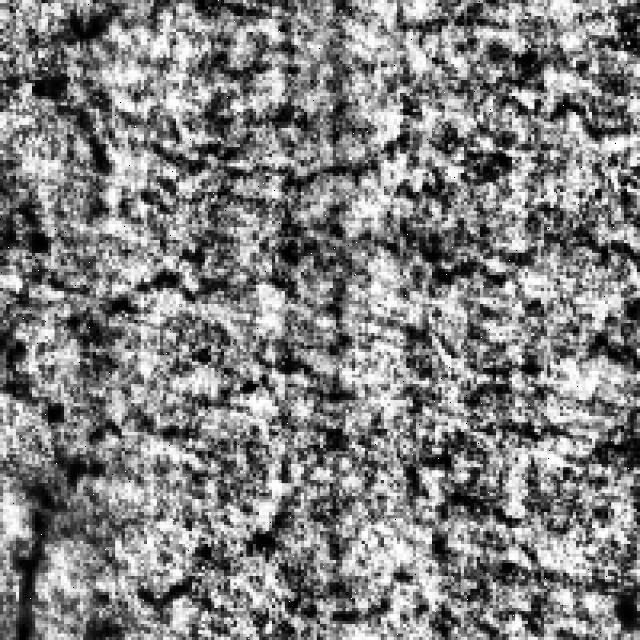Pitted_Surface: (96, 84, 637, 438)
